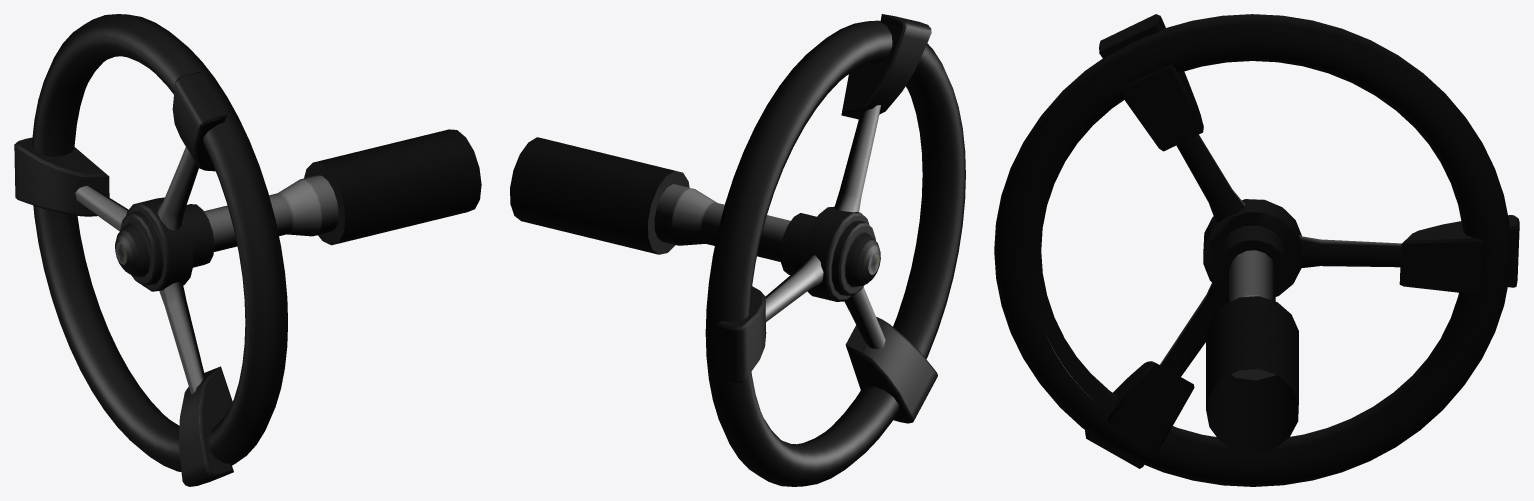
File: SM_Valve.fbx
The picture shows the model from 3 angles, left to right: view 1: azimuth 30°, elevation 25°; view 2: azimuth 150°, elevation 25°; view 3: azimuth 270°, elevation 25°; orthographic projection. The views are drawn at different scales.
Parts seen in each view (by area): view 1: SM_Valve_LOD0; view 2: SM_Valve_LOD0; view 3: SM_Valve_LOD0.
Part boxes in pixels (x1,y1,x2,y2): SM_Valve_LOD0: (14,14,481,486); SM_Valve_LOD0: (510,14,965,486); SM_Valve_LOD0: (994,14,1519,486).
Bounding box in the file's own units: 49.78 × 60.96 × 59.98.
